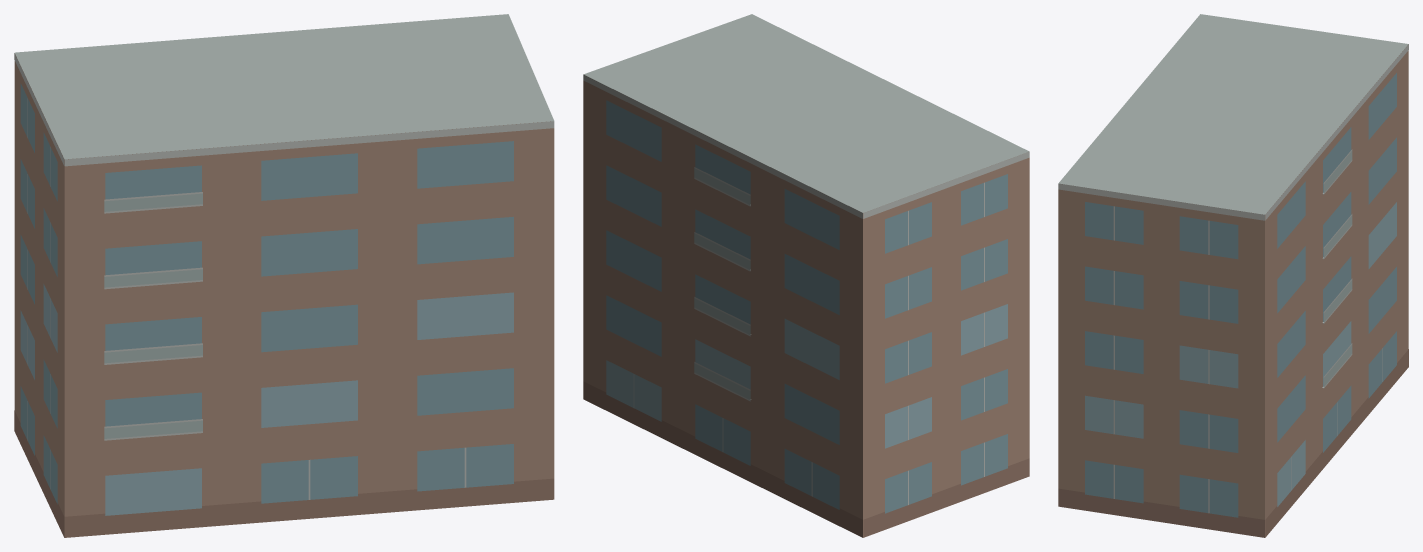
The model's file is survey-upis-32894458.glb.
The picture shows the model from 3 angles, left to right: view 1: azimuth 30°, elevation 25°; view 2: azimuth 150°, elevation 25°; view 3: azimuth 270°, elevation 25°; orthographic projection. The views are drawn at different scales.
Visible parts, largest first — view 1: survey-upis-32894458.tmp; view 2: survey-upis-32894458.tmp; view 3: survey-upis-32894458.tmp.
Boxes of the visible parts, x1,y1,x2,y2 form: survey-upis-32894458.tmp: [14, 14, 554, 537]; survey-upis-32894458.tmp: [583, 14, 1029, 537]; survey-upis-32894458.tmp: [1058, 14, 1408, 537].
Size of the model in its own units: 17.47 by 13.1 by 12.89.
